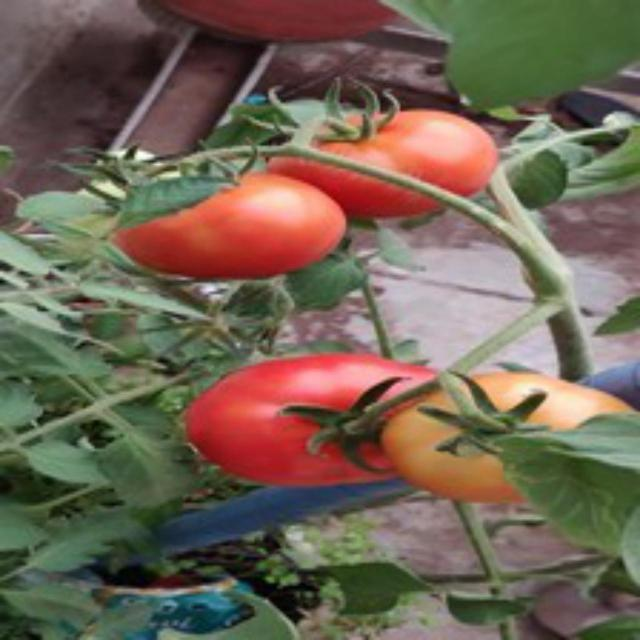tomato: (168, 350, 466, 506), (111, 158, 359, 308), (258, 89, 508, 220)
